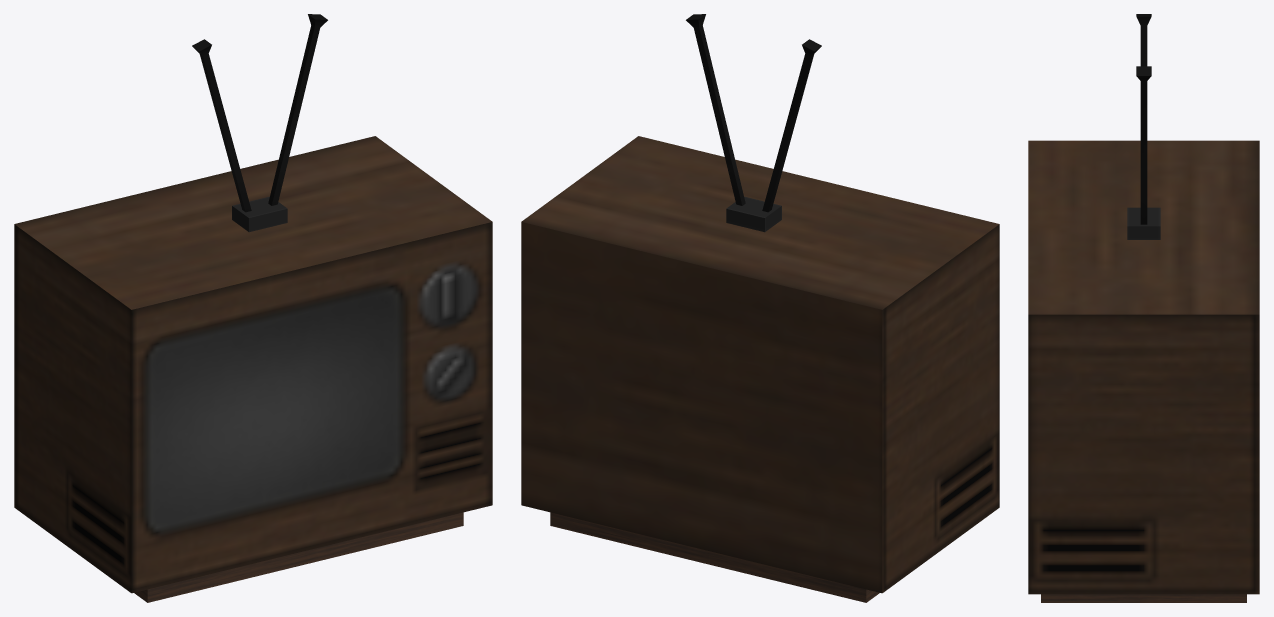
3 renders of one model, left to right at view 1: azimuth 30°, elevation 25°; view 2: azimuth 150°, elevation 25°; view 3: azimuth 270°, elevation 25°, orthographic.
Parts seen in each view (by area): view 1: polySurface1519; view 2: polySurface1519; view 3: polySurface1519.
Boxes of the visible parts, bbox=[...] form: polySurface1519: bbox=[14, 14, 492, 602]; polySurface1519: bbox=[521, 14, 999, 602]; polySurface1519: bbox=[1028, 14, 1259, 602].
Size of the model in its own units: 0.8 by 1.05 by 0.45.
